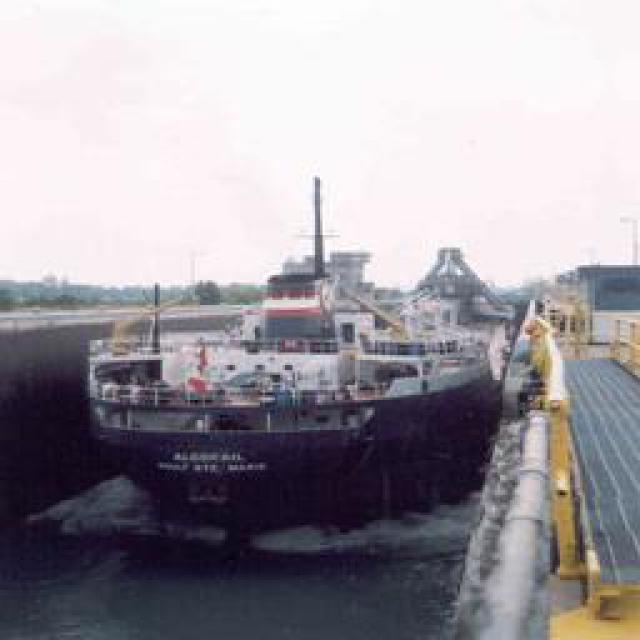Ship: (76, 183, 519, 518)
